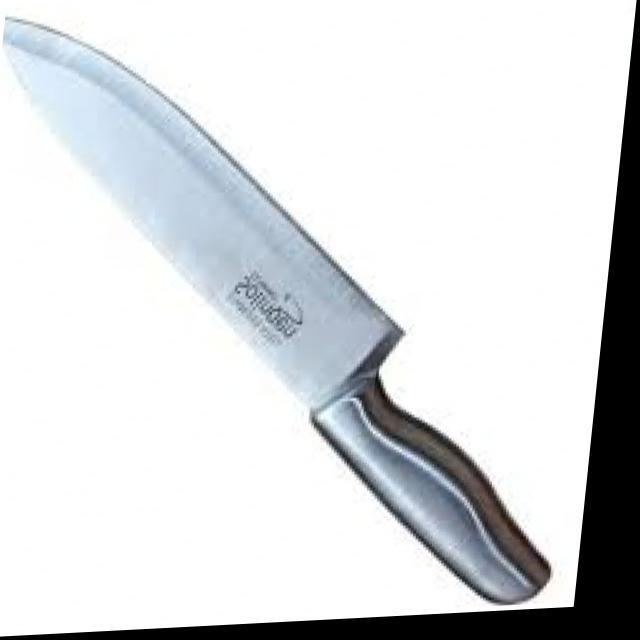knife: (0, 0, 554, 608)
